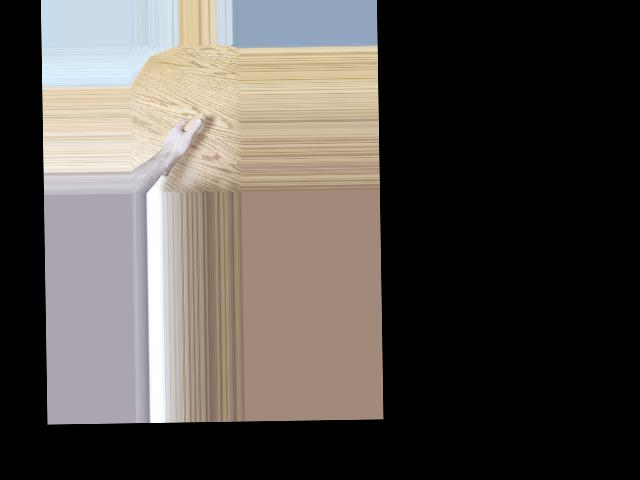sweet_potato: (160, 112, 207, 178)
